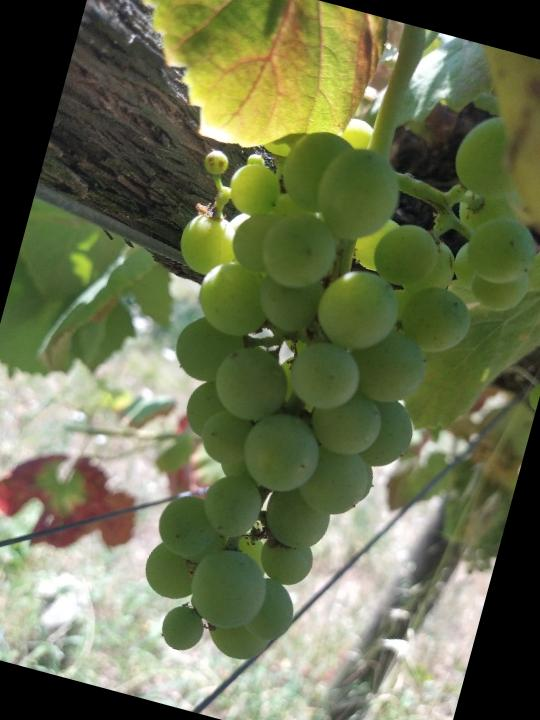grape: (75, 43, 540, 715)
